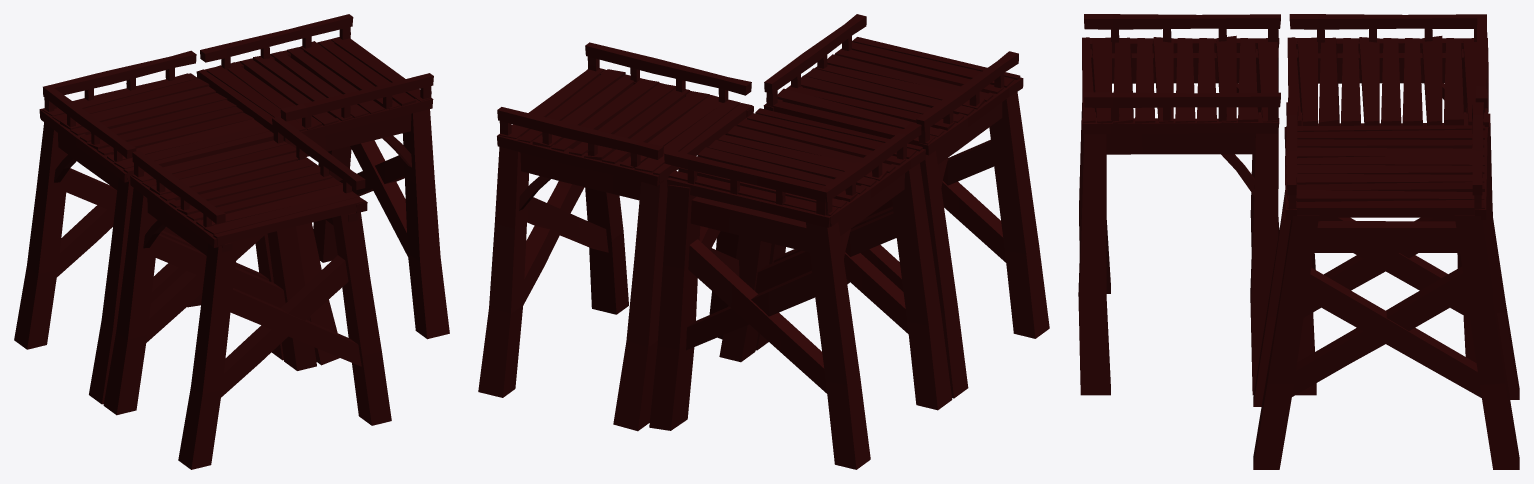
3 views of the same model, side by side, from view 1: azimuth 30°, elevation 25°; view 2: azimuth 150°, elevation 25°; view 3: azimuth 270°, elevation 25° (orthographic). The views are drawn at different scales.
Visible parts, largest first — view 1: modulo_003; view 2: modulo_003; view 3: modulo_003.
Boxes of the visible parts, left/top/right/bottom form: modulo_003: left=14, top=14, right=449, bottom=469; modulo_003: left=478, top=14, right=1049, bottom=469; modulo_003: left=1078, top=14, right=1519, bottom=469.
Size of the model in its own units: 1371 by 979 by 1365.
